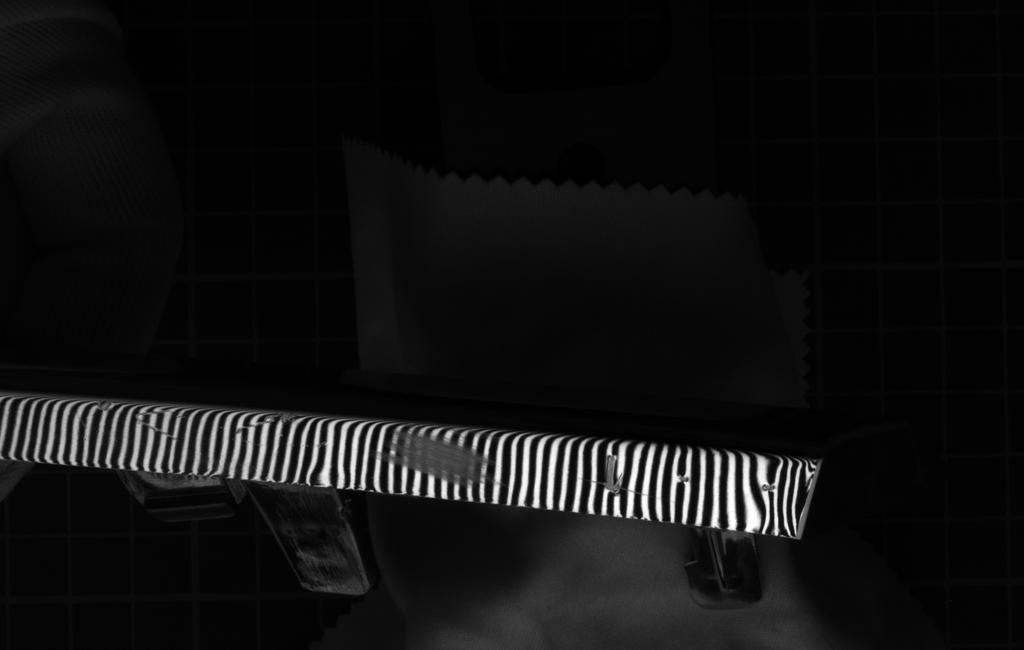Pierced: (92, 395, 118, 419), (756, 477, 783, 499), (671, 471, 701, 488)
Scratch: (367, 427, 500, 495), (130, 403, 194, 443), (224, 411, 291, 440), (601, 449, 627, 501)
